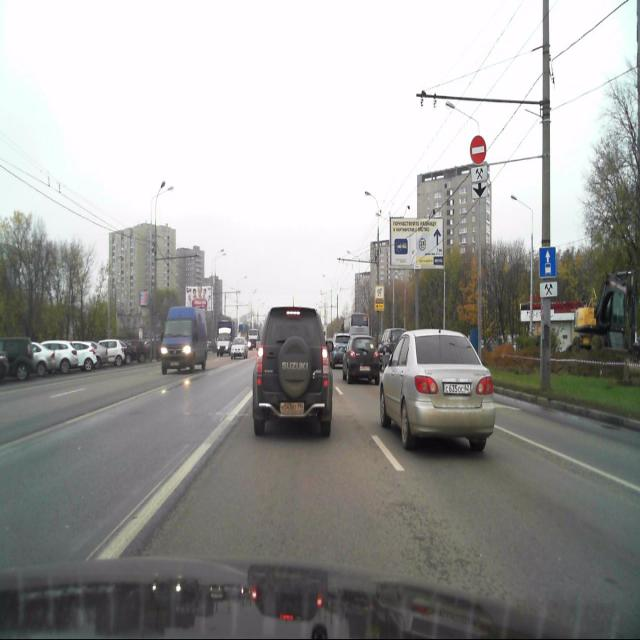road sign: (538, 246, 556, 279), (540, 283, 557, 297)
